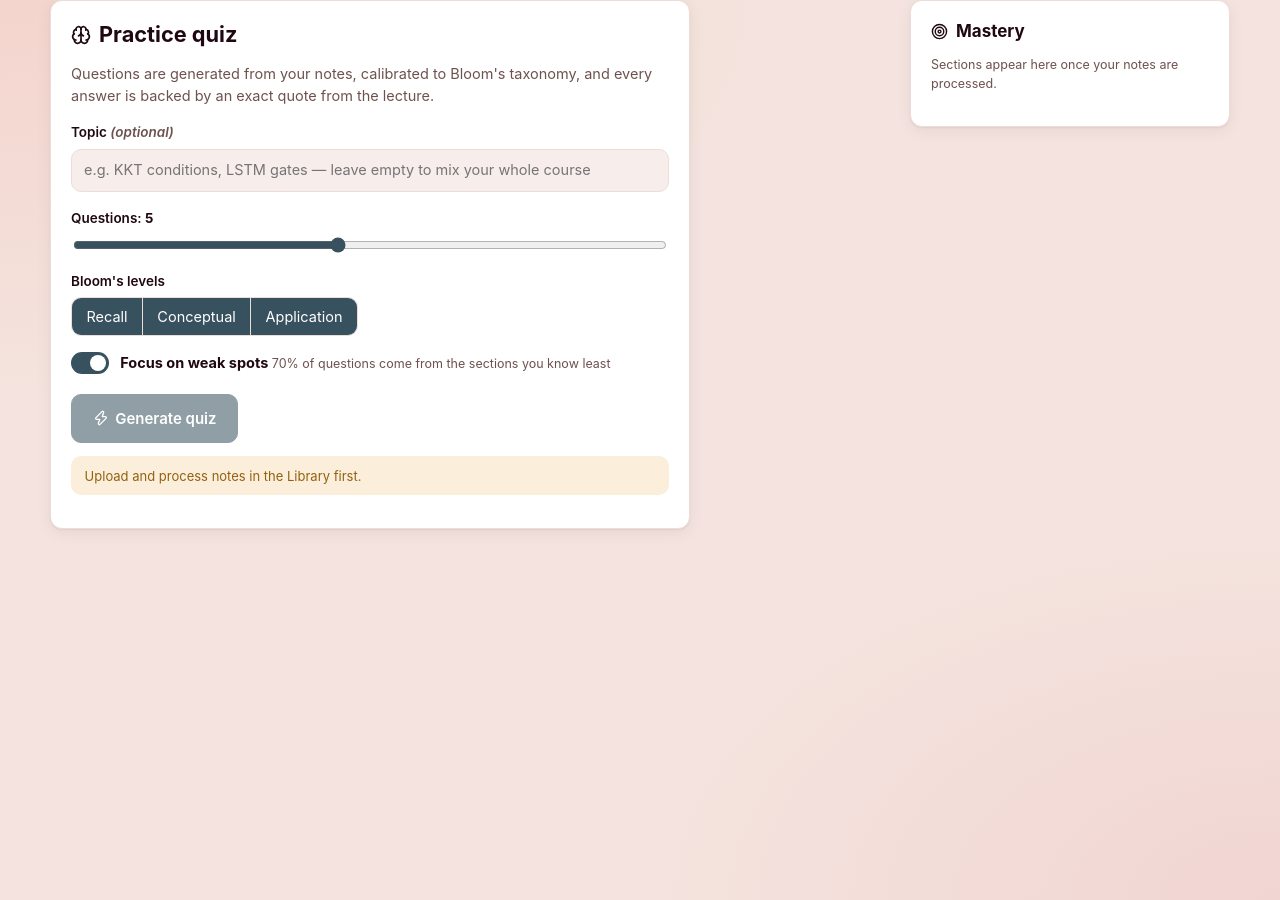
Test: Quiz › requires at least one Bloom level
The width and height of the screenshot is (1280, 900).
Click the button "Recall" at [108, 317], box [72,298,143,335]
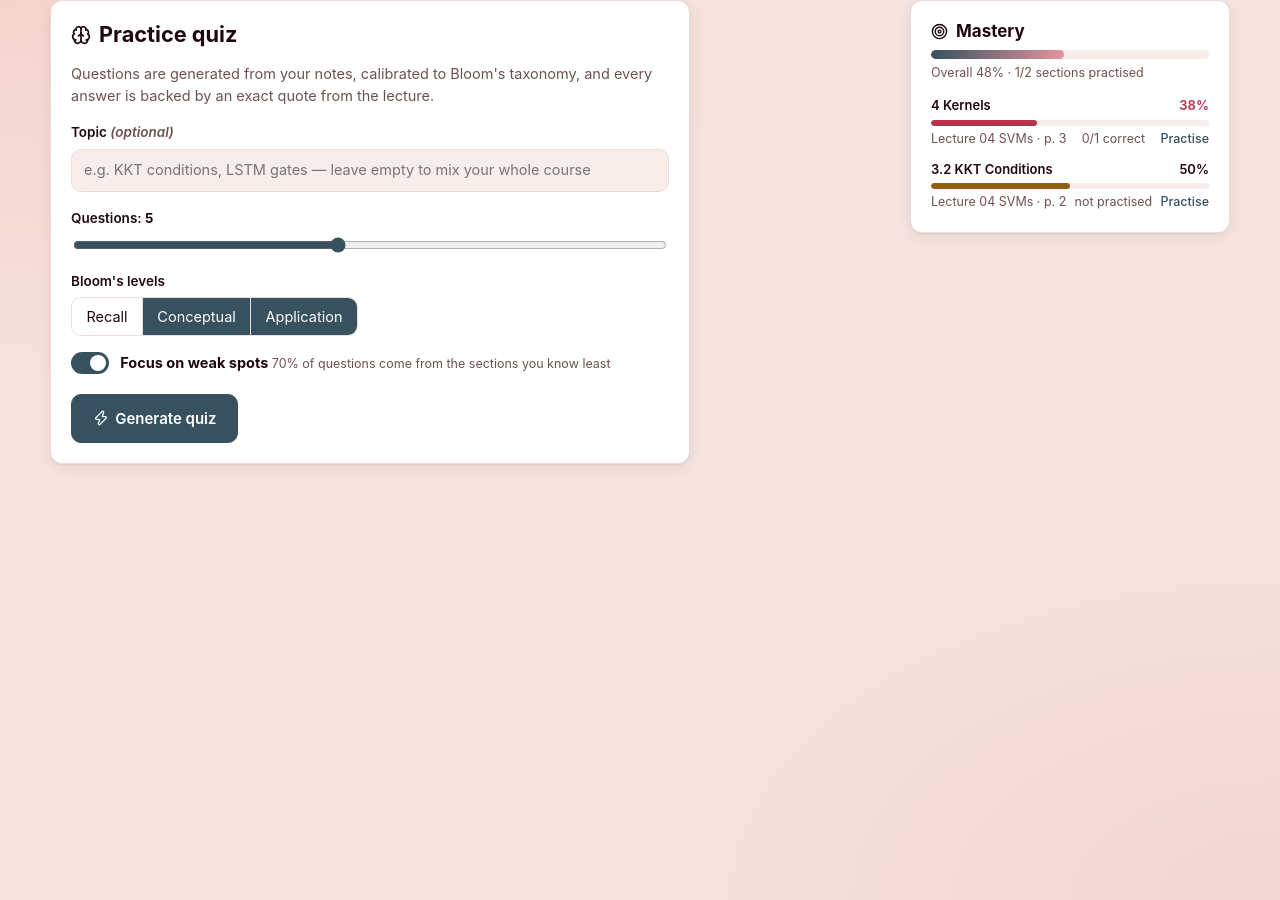
Click the button "Conceptual" at [197, 317], box [143,298,251,335]
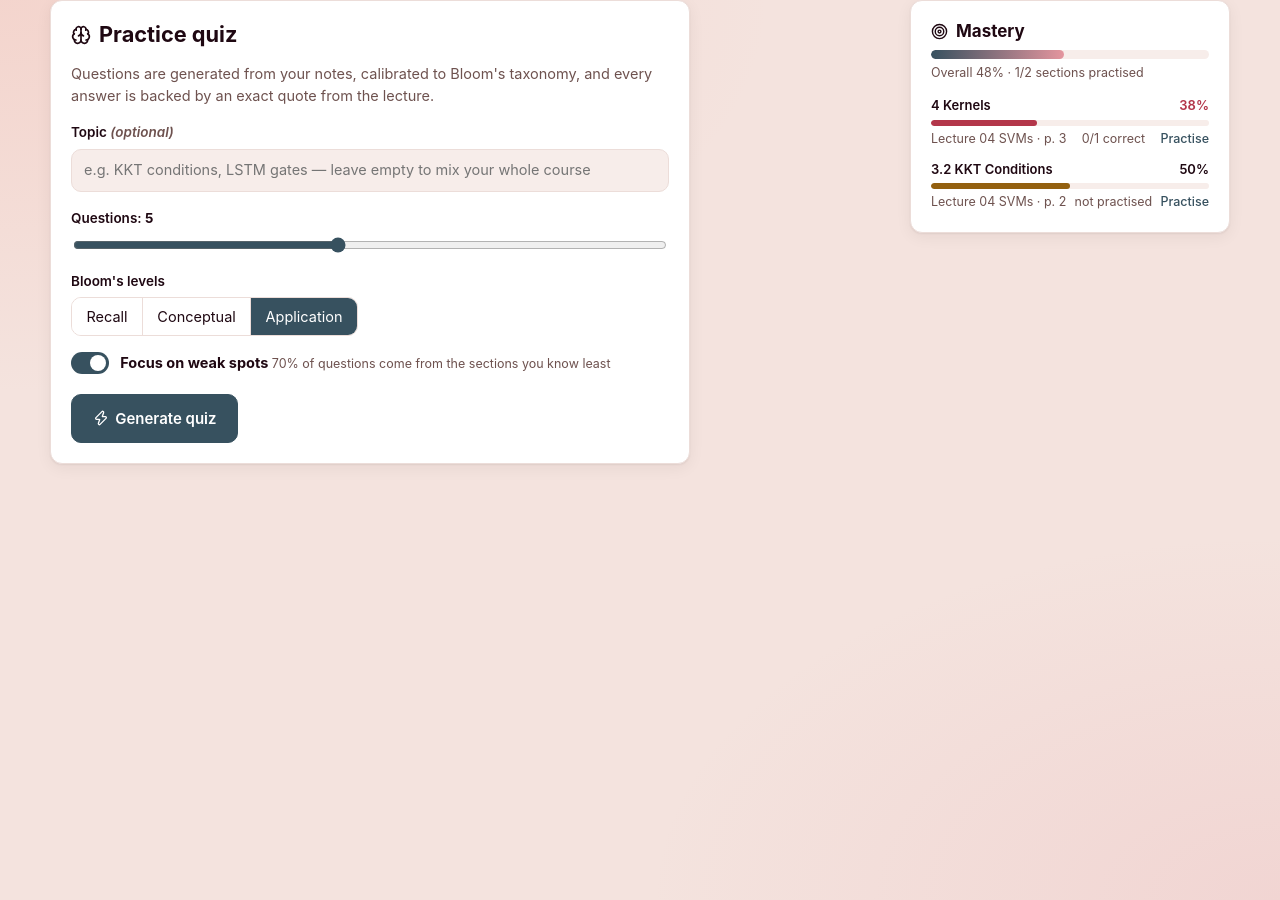
Click the button "Application" at [304, 317], box [251,298,357,335]
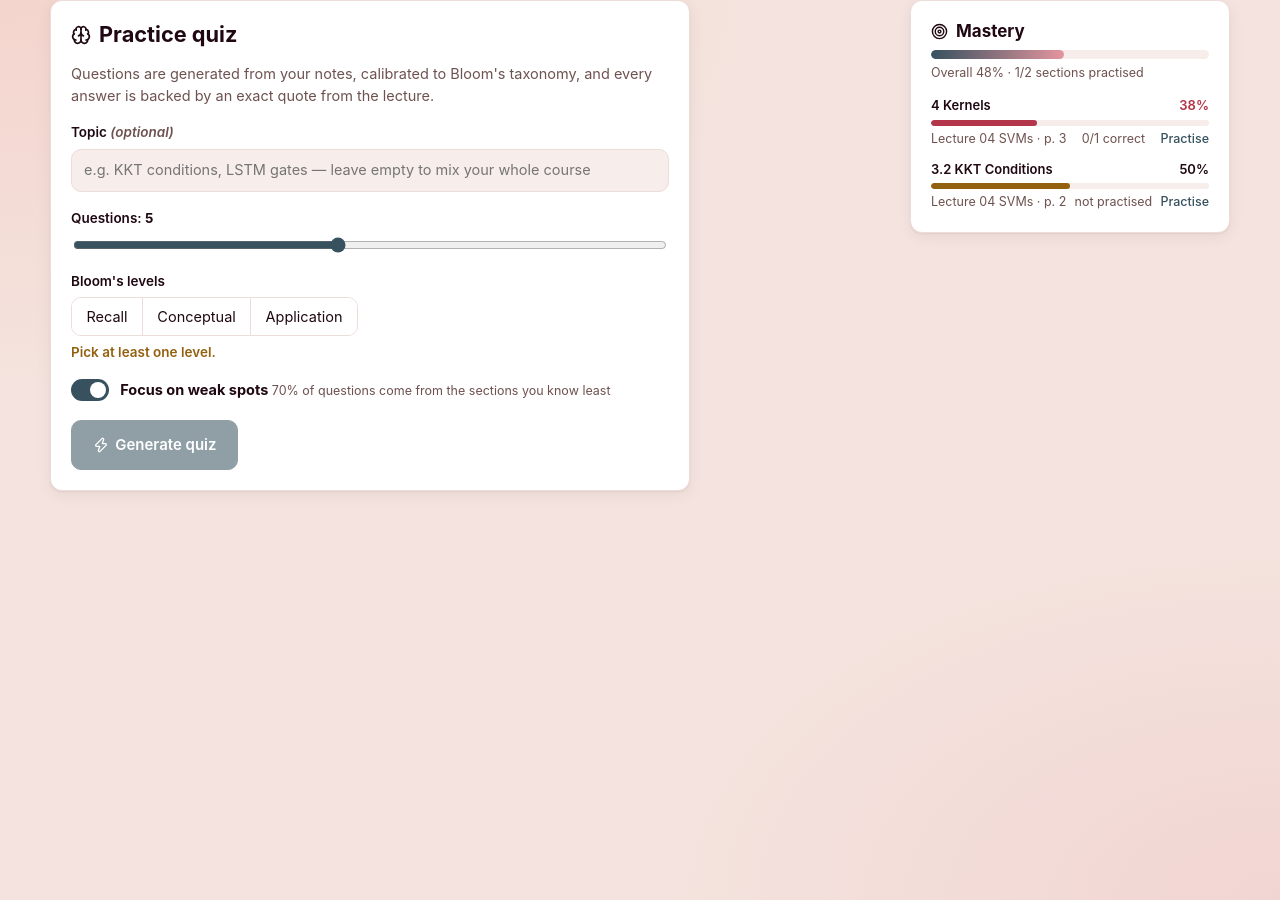
Result: the text "Pick at least one level." is shown at [71,344,216,360]
Result: the button "Generate quiz" is disabled at [71,420,238,470]
